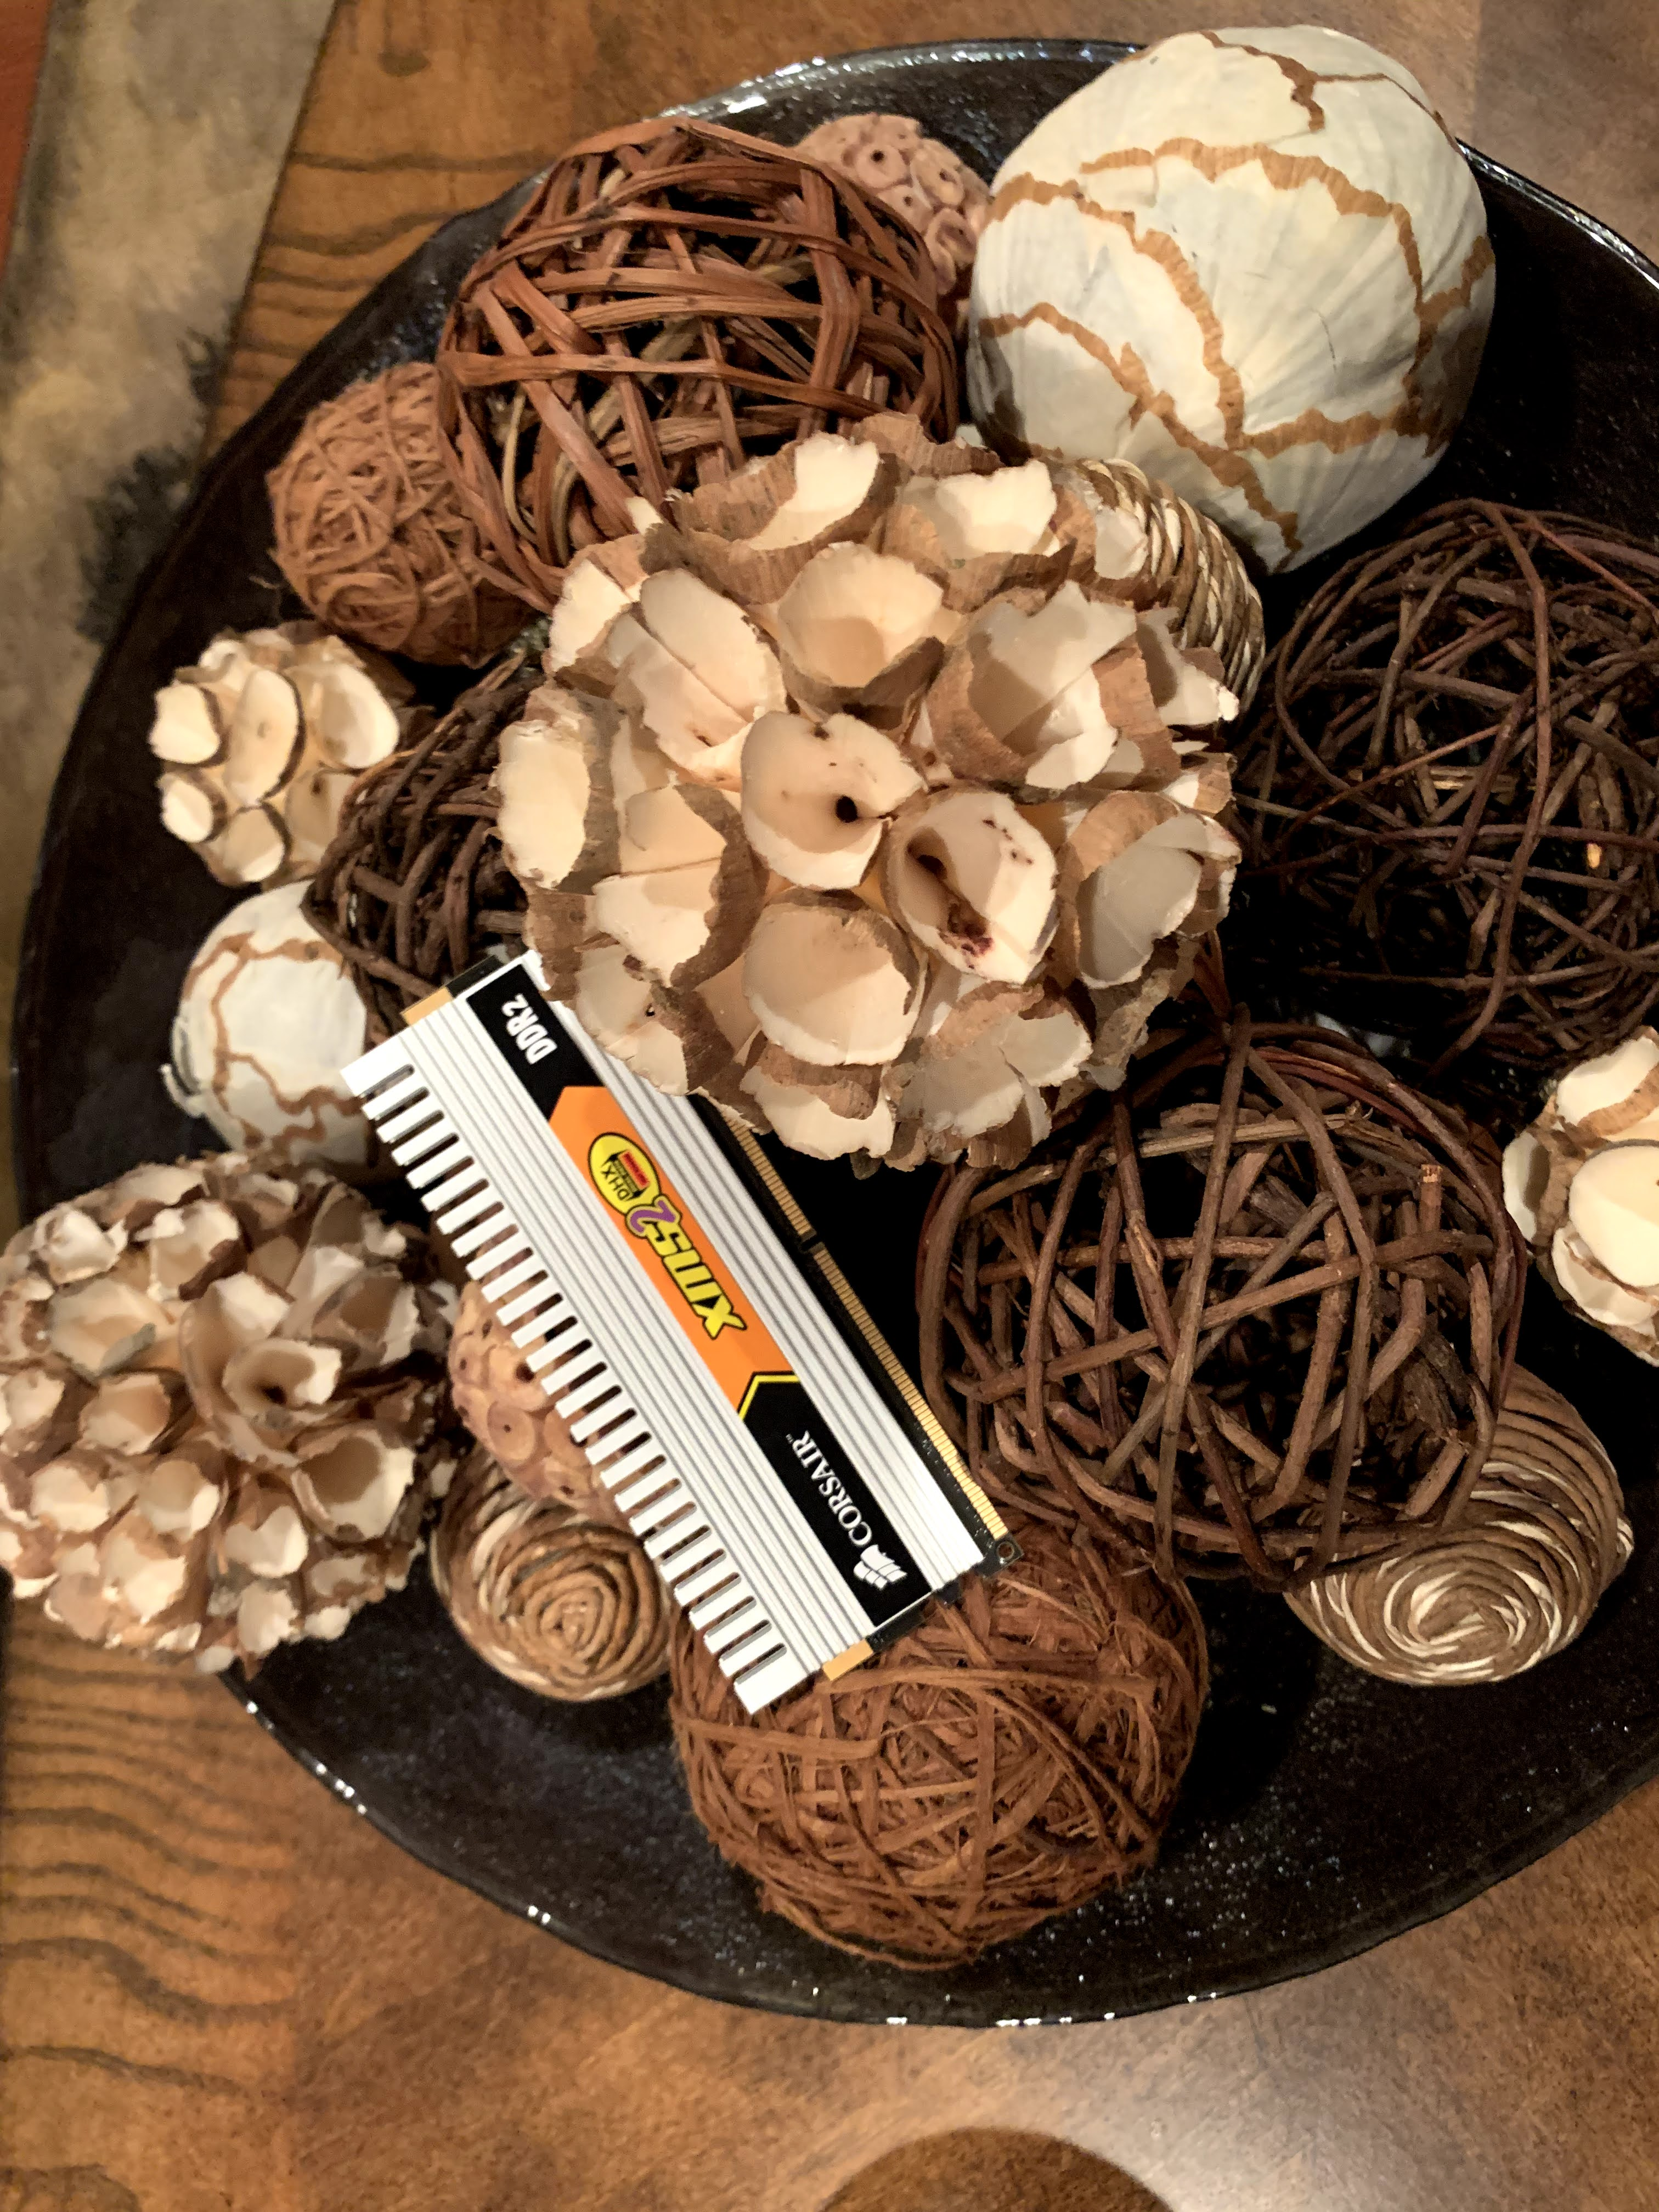Space-debris-medium: (301, 939, 1058, 1714)
